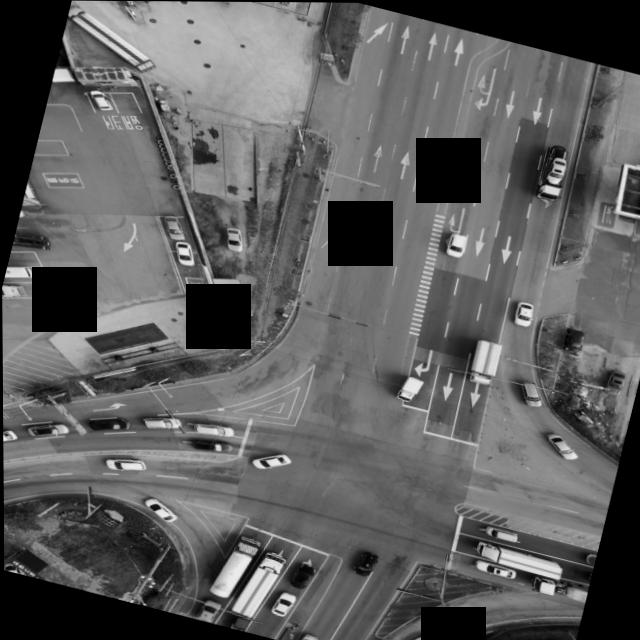car: (21, 414, 69, 444), (85, 410, 130, 439), (540, 430, 579, 459), (137, 409, 180, 435), (248, 446, 289, 473), (190, 417, 234, 441), (139, 495, 178, 521), (188, 433, 232, 456), (103, 450, 145, 474), (515, 379, 546, 407), (286, 558, 314, 589), (470, 559, 513, 579), (268, 588, 296, 617), (168, 238, 197, 266), (193, 595, 221, 624), (155, 212, 185, 239), (82, 88, 114, 112), (218, 225, 244, 252), (350, 550, 375, 578), (559, 326, 585, 352), (480, 524, 516, 542), (442, 229, 465, 257), (600, 366, 623, 394), (508, 300, 531, 326), (397, 626, 434, 640), (294, 631, 317, 640), (582, 552, 595, 564)
medium_truck: (60, 4, 164, 73), (224, 545, 282, 626), (203, 529, 260, 603), (473, 536, 565, 578), (531, 143, 570, 202), (464, 333, 500, 383), (534, 572, 588, 600), (10, 229, 51, 255)
small_bus: (2, 260, 34, 288)
small_truck: (393, 370, 423, 401), (2, 417, 19, 457), (2, 279, 25, 301), (227, 613, 250, 632)
